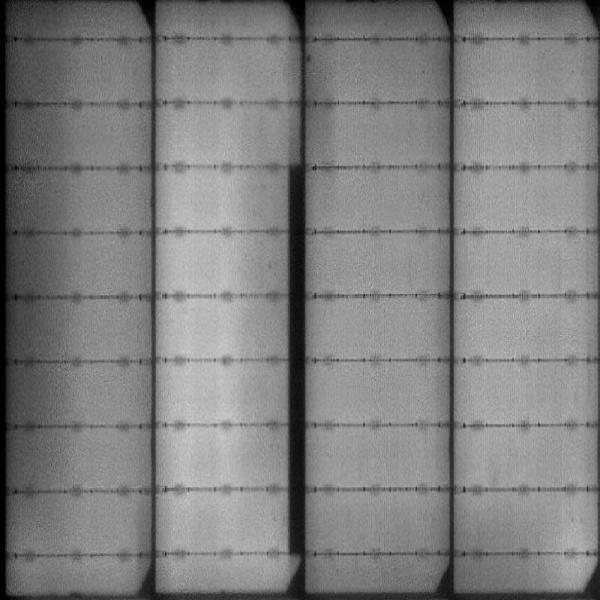black_border: (284, 156, 308, 559)
